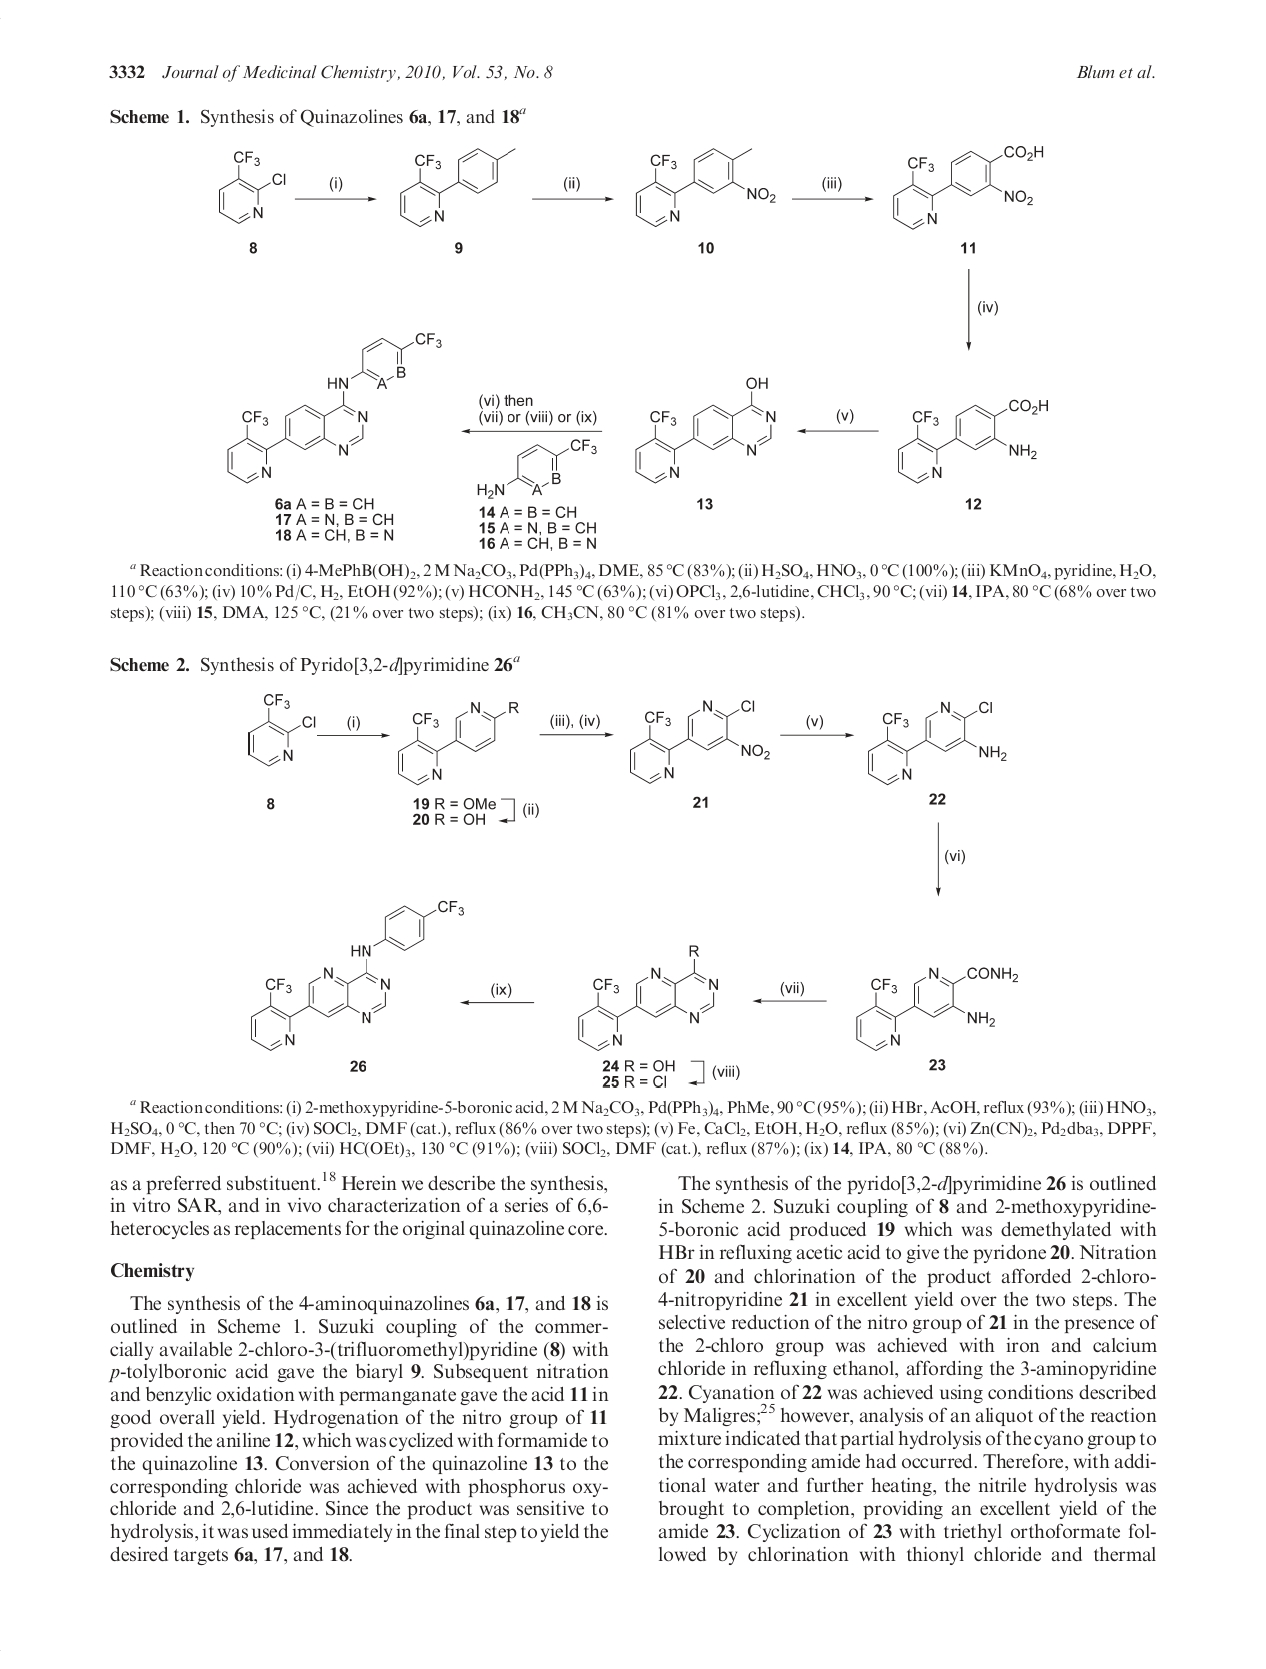exist_molecular: (218, 324, 451, 485), (246, 888, 469, 1055), (852, 956, 1025, 1059), (634, 375, 789, 484), (574, 940, 723, 1051), (890, 140, 1047, 235), (864, 688, 1009, 789), (625, 696, 771, 793), (630, 140, 779, 233), (894, 398, 1047, 488), (388, 696, 531, 789), (398, 140, 520, 231), (469, 435, 600, 500), (211, 152, 290, 233), (247, 688, 323, 767)
